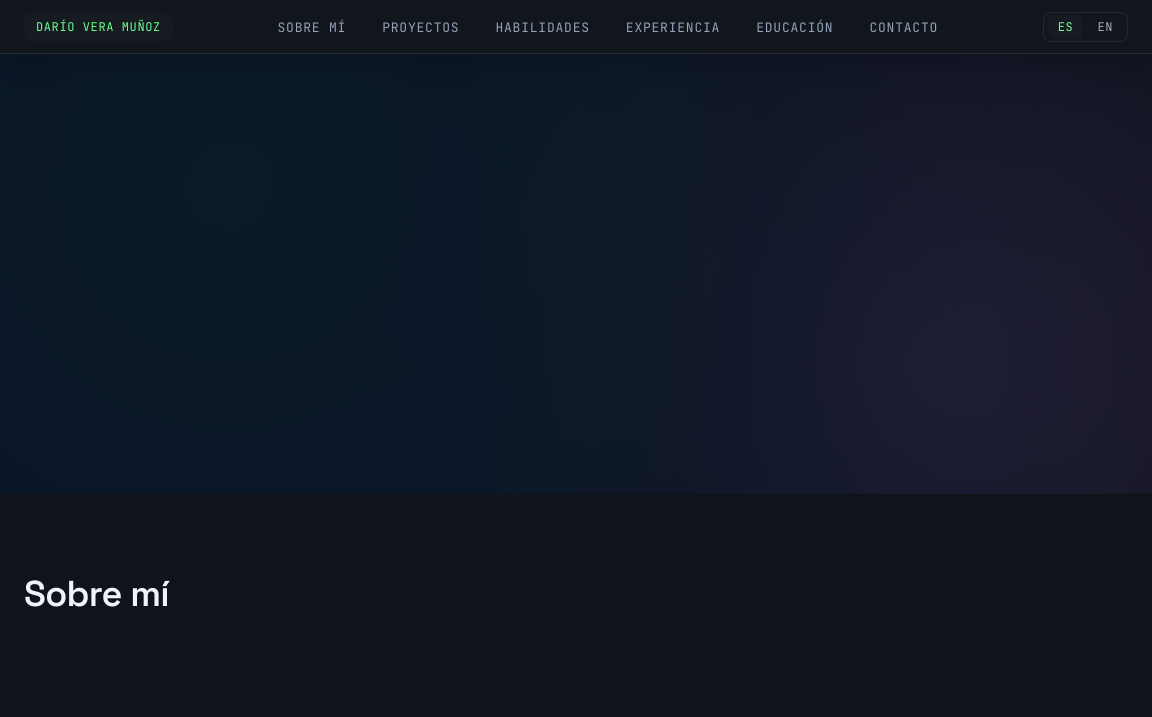
Test: Language toggle integration › switching back to ES restores Spanish labels
The width and height of the screenshot is (1152, 717).
Click the button with aria-label "switch to en".
click(1105, 27)  # box [1087,15,1123,39]
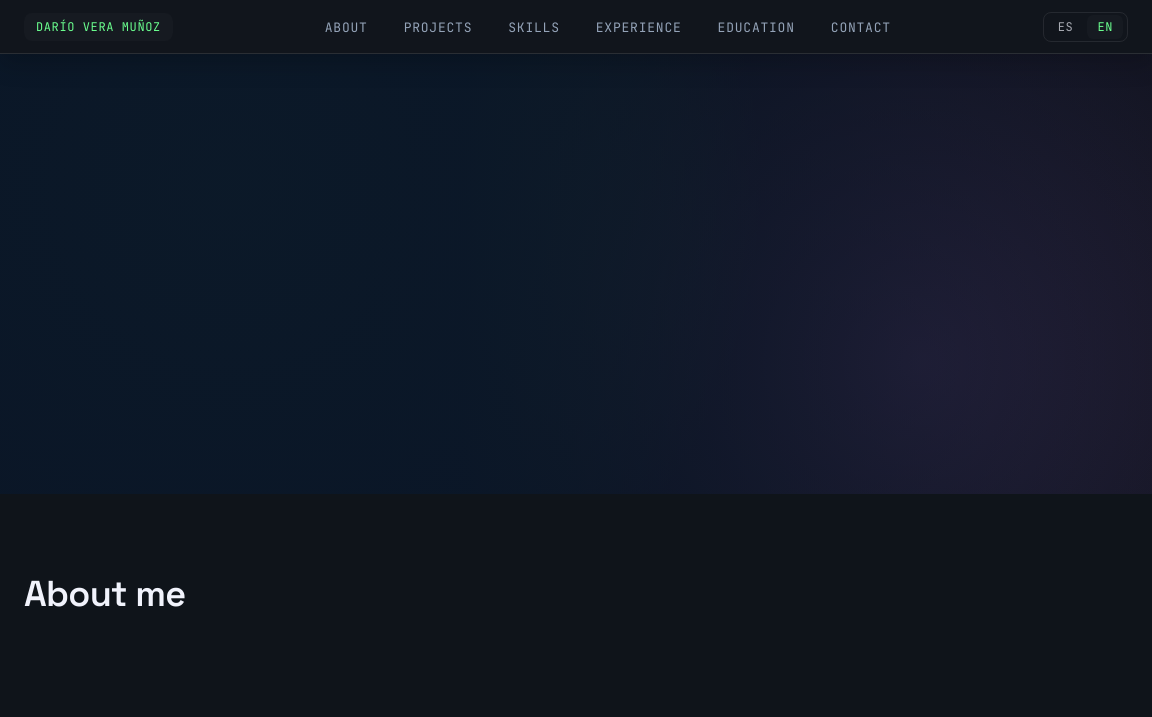
Check: the link "About" is shown, box [323,15,370,40]
Click the button with aria-label "switch to es".
click(1066, 27)  # box [1048,15,1083,39]
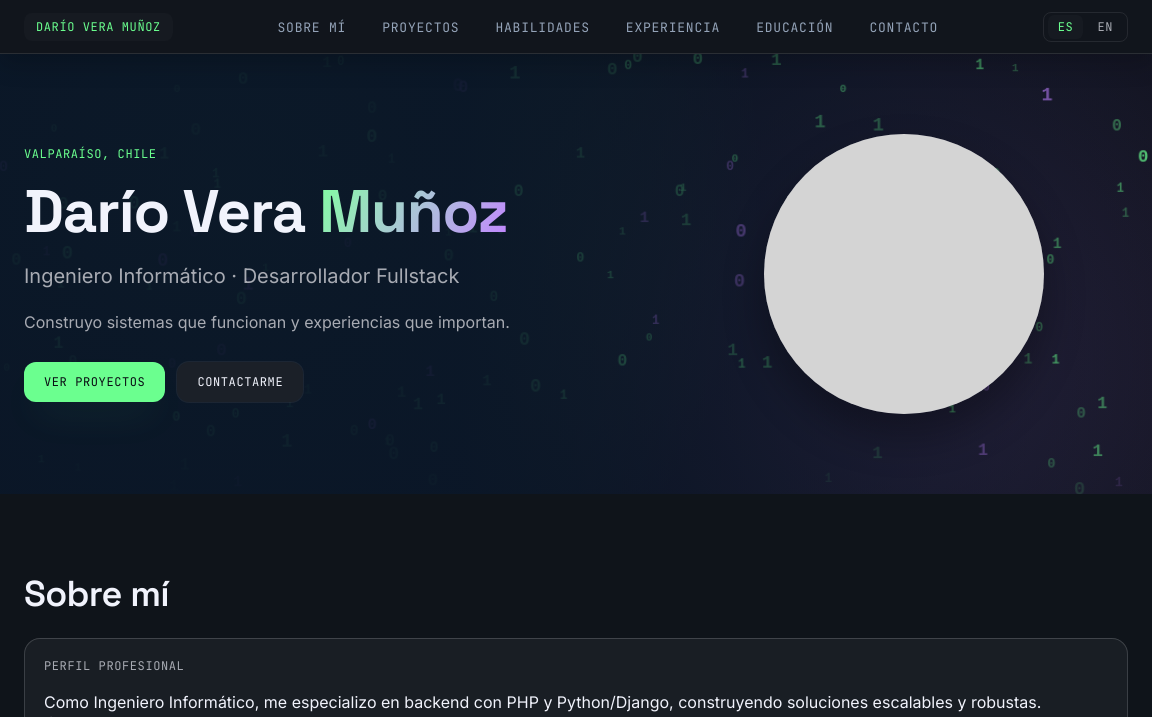
Check: the link "Sobre mí" is shown, box [276,15,348,40]
